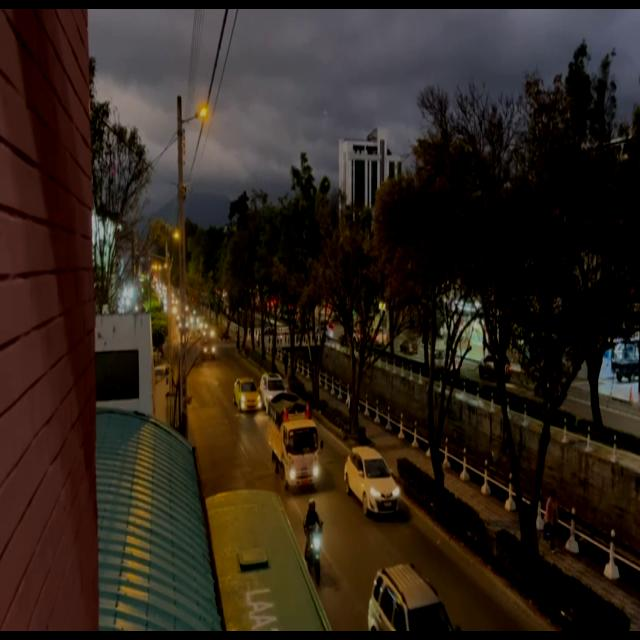MOTORCYCLE: (304, 524, 322, 585)
SED: (236, 380, 260, 410)
SUV: (347, 455, 398, 516)
TRUCK: (267, 398, 319, 486)
